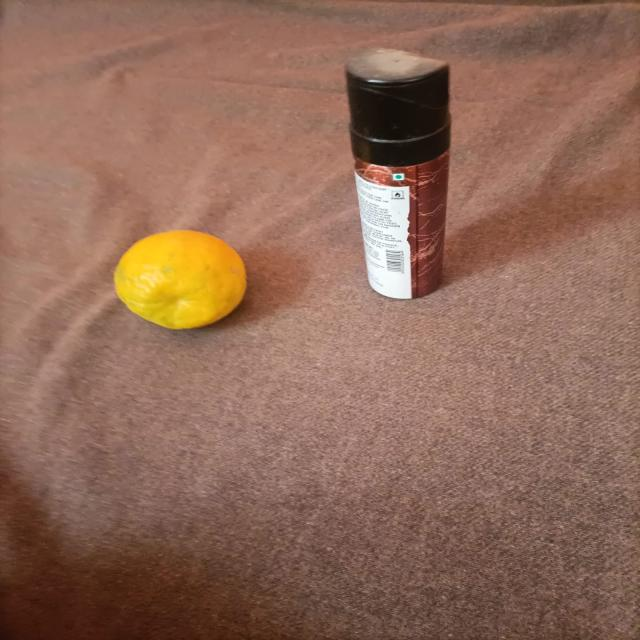orange: (90, 225, 269, 345)
spray: (306, 30, 499, 326)
